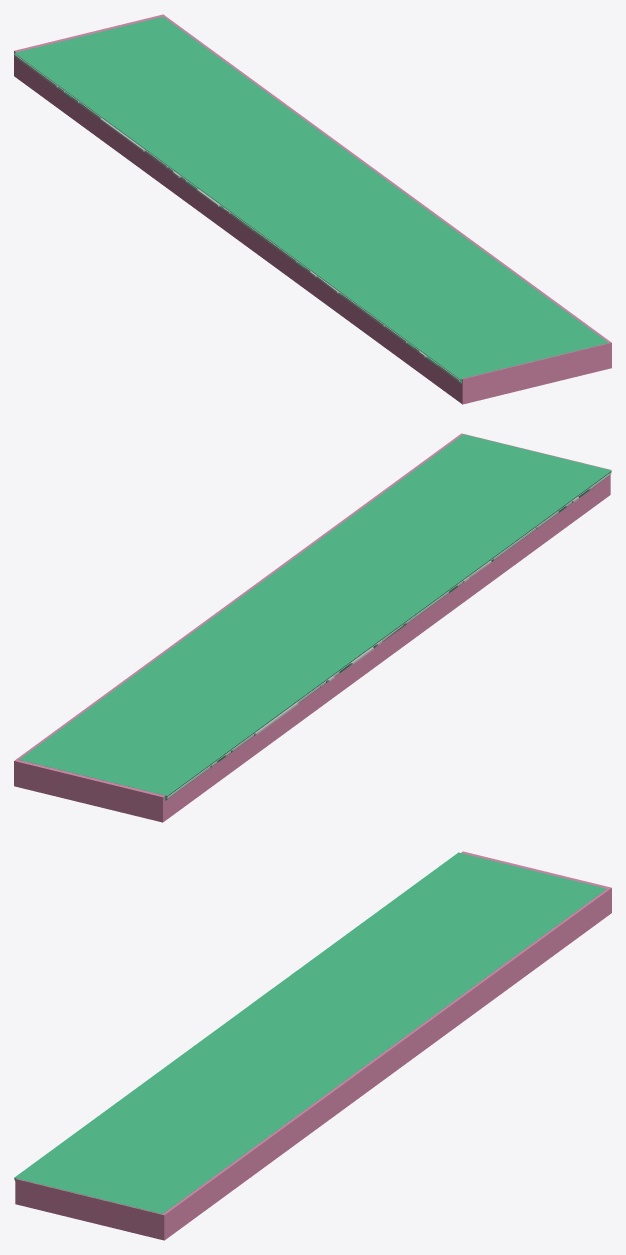
The model's file is ind_obj_04_b.dae.
The picture shows the model from 3 angles, top to bottom: view 1: azimuth 30°, elevation 25°; view 2: azimuth 150°, elevation 25°; view 3: azimuth 330°, elevation 25°; orthographic projection.
Parts seen in each view (by area): view 1: Colmesh-1, Untitled, tree_oak_bush_a300, tree_oak_bush_a100; view 2: Colmesh-1, Untitled, tree_oak_bush_a300; view 3: Colmesh-1, Untitled.
Boxes of the visible parts, x1,y1,x2,y2 form: Colmesh-1: [14, 16, 608, 383]; Untitled: [14, 14, 611, 404]; tree_oak_bush_a300: [14, 55, 459, 381]; tree_oak_bush_a100: [14, 54, 458, 379]; Colmesh-1: [19, 434, 611, 800]; Untitled: [14, 433, 610, 822]; tree_oak_bush_a300: [166, 473, 611, 798]; Colmesh-1: [14, 852, 606, 1213]; Untitled: [15, 851, 611, 1240].
Bounding box in the file's own units: 2.58 × 13.12 × 0.4116.
